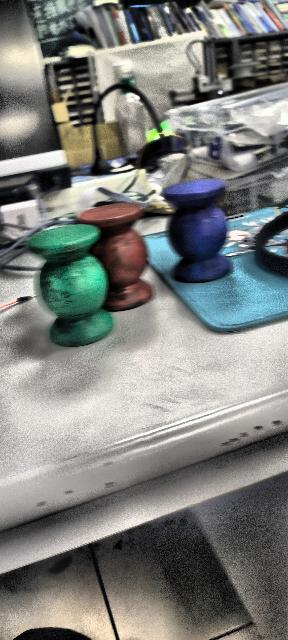blue: (164, 178, 230, 282)
green: (22, 219, 112, 345)
red: (70, 199, 154, 308)
